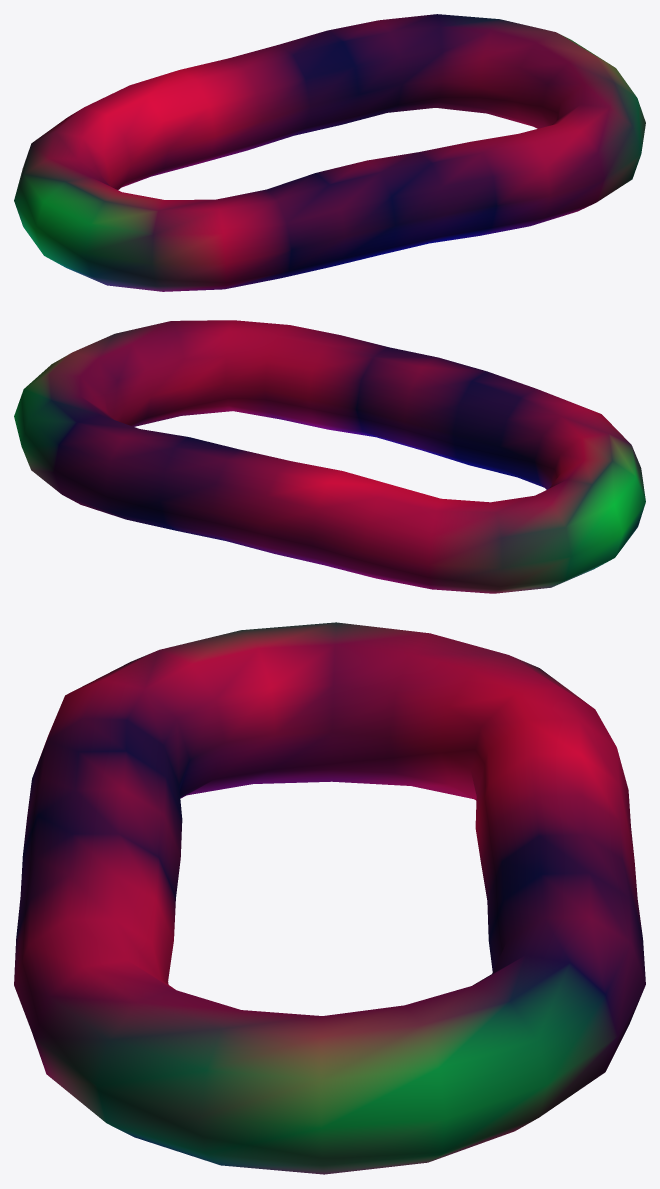
Rendered from SM_ChainLink.fbx.
The picture shows the model from 3 angles, top to bottom: view 1: azimuth 30°, elevation 25°; view 2: azimuth 150°, elevation 25°; view 3: azimuth 270°, elevation 25°; orthographic projection. The views are drawn at different scales.
Parts seen in each view (by area): view 1: SM_ChainLink; view 2: SM_ChainLink; view 3: SM_ChainLink.
Part boxes in pixels (x1=…): SM_ChainLink: x1=14, y1=14, x2=645, y2=291; SM_ChainLink: x1=14, y1=320, x2=645, y2=593; SM_ChainLink: x1=14, y1=622, x2=645, y2=1174.
Size of the model in its own units: 696 by 1206 by 192.
